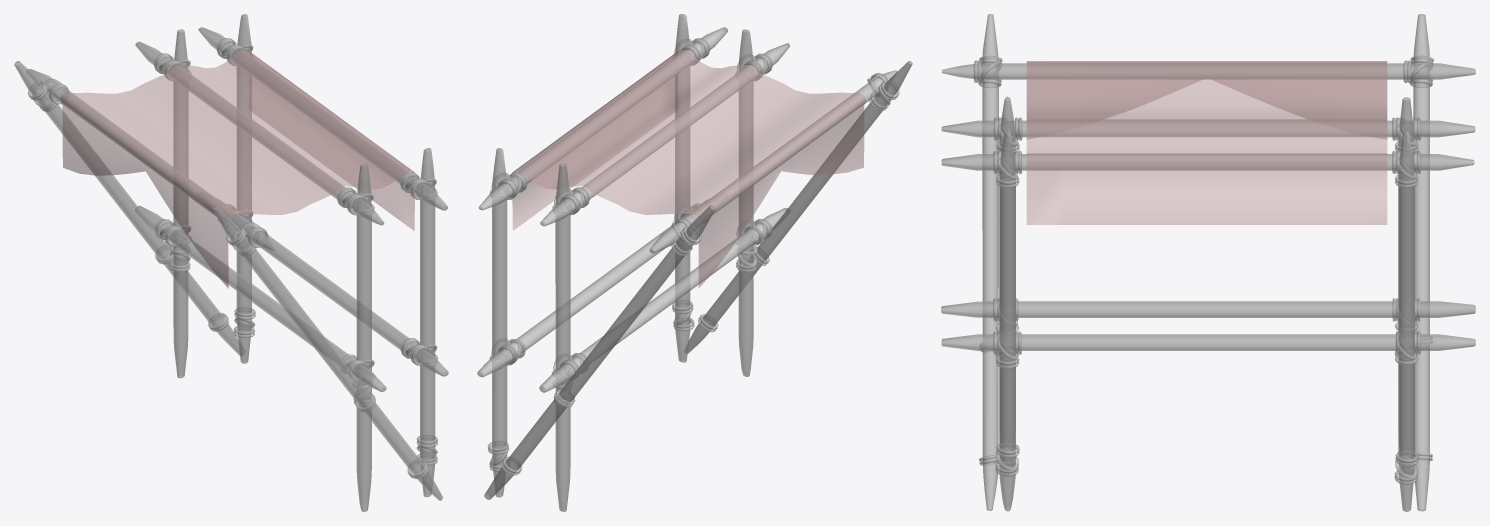
Rendered from SM_Stall_01_Unity.fbx.
3 renders of one model, left to right at view 1: azimuth 30°, elevation 25°; view 2: azimuth 150°, elevation 25°; view 3: azimuth 270°, elevation 25°, orthographic. The views are drawn at different scales.
Parts seen in each view (by area): view 1: SM_BigTent_Top_low; view 2: SM_BigTent_Top_low; view 3: SM_BigTent_Top_low.
Part boxes in pixels (x1=…): SM_BigTent_Top_low: x1=14, y1=14, x2=448, y2=511; SM_BigTent_Top_low: x1=477, y1=14, x2=912, y2=511; SM_BigTent_Top_low: x1=941, y1=14, x2=1475, y2=511.
Bounding box in the file's own units: 176 × 252 × 320.
